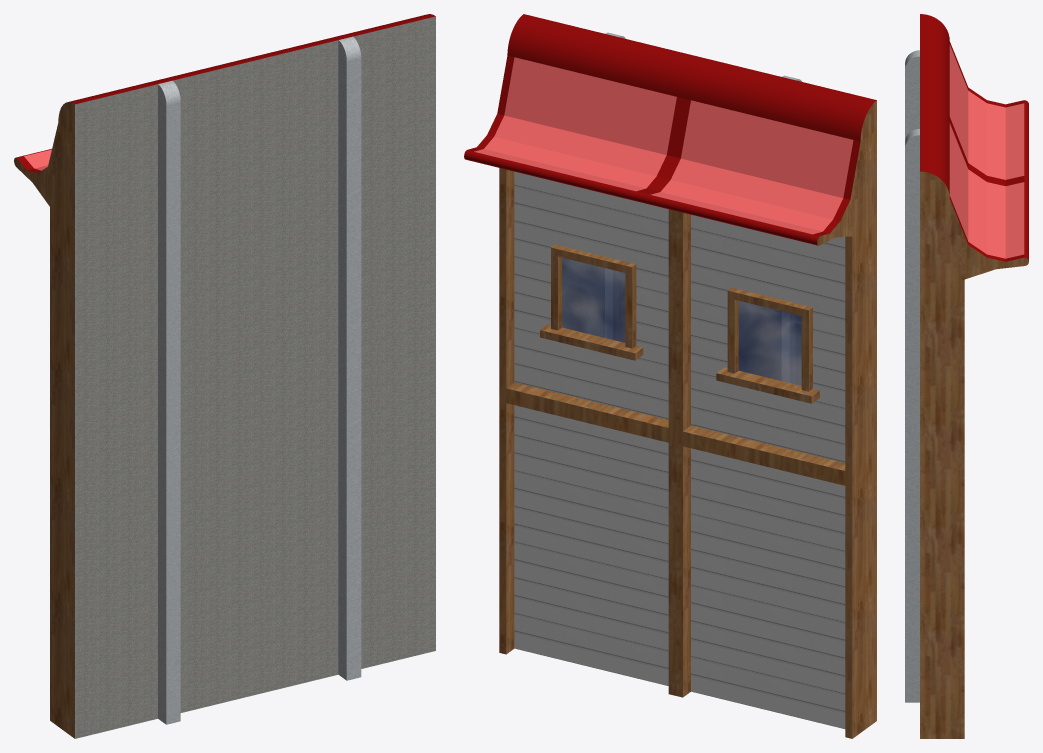
Rendered from ChinaWall.dae.
3 views of the same model, side by side, from view 1: azimuth 30°, elevation 25°; view 2: azimuth 150°, elevation 25°; view 3: azimuth 270°, elevation 25° (orthographic). The views are drawn at different scales.
Parts seen in each view (by area): view 1: SketchUp (×7); view 2: SketchUp (×16); view 3: SketchUp (×6).
Boxes of the visible parts, x1=… form: SketchUp (×7): x1=14, y1=14, x2=435, y2=738; SketchUp (×16): x1=464, y1=14, x2=876, y2=738; SketchUp (×6): x1=905, y1=14, x2=1028, y2=738.
Size of the model in its own units: 197 by 65.45 by 331.
8 materials, 5 textured.
